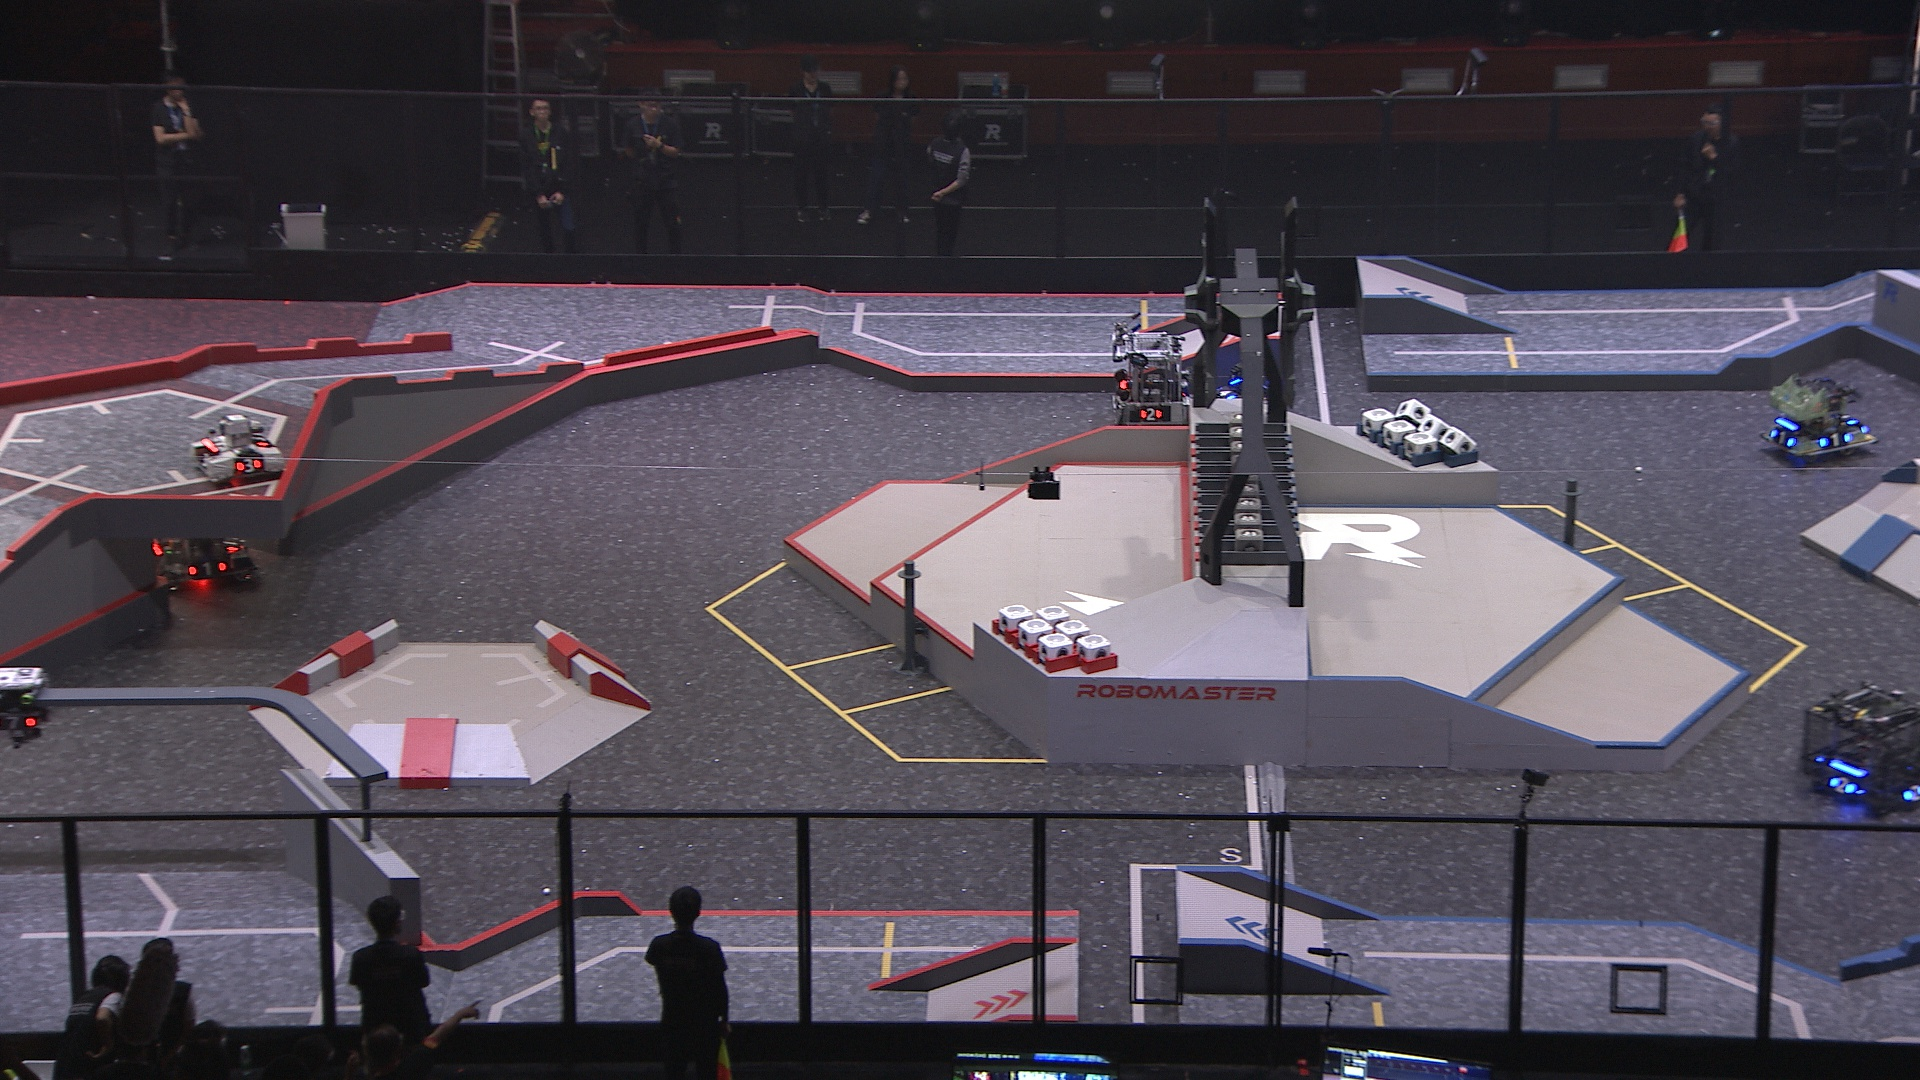armor: (185, 556, 229, 579), (1826, 773, 1863, 796), (229, 454, 266, 476), (1815, 431, 1851, 452), (216, 531, 243, 556), (1768, 427, 1795, 451), (193, 446, 218, 469), (249, 429, 276, 450), (1138, 404, 1163, 425), (1215, 384, 1237, 404), (1840, 407, 1859, 427), (1903, 781, 1920, 803)
car: (1803, 679, 1920, 818), (142, 488, 258, 593), (1756, 371, 1882, 465), (1106, 328, 1196, 440), (189, 410, 289, 485), (1205, 361, 1284, 425)
